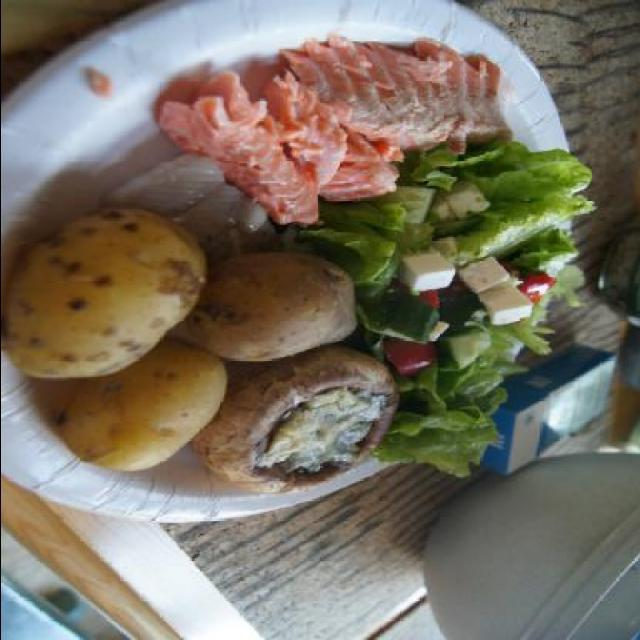Potato: (1, 208, 210, 380), (60, 346, 226, 471), (182, 254, 354, 364)
